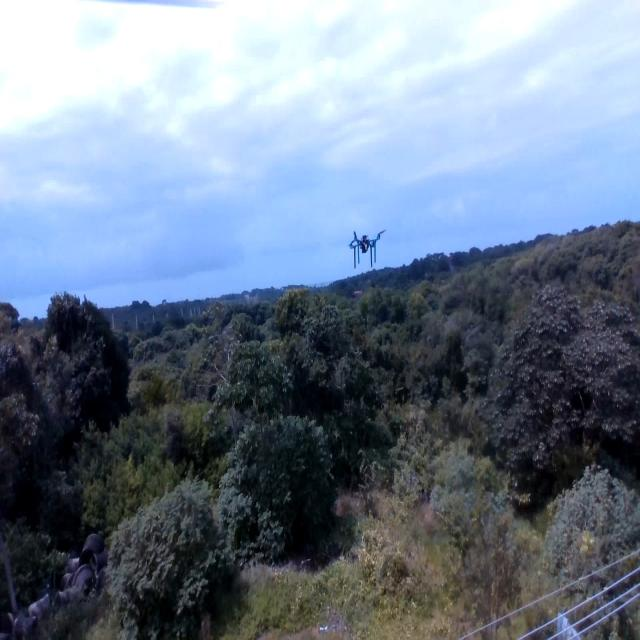-uav-: (341, 218, 392, 292)
